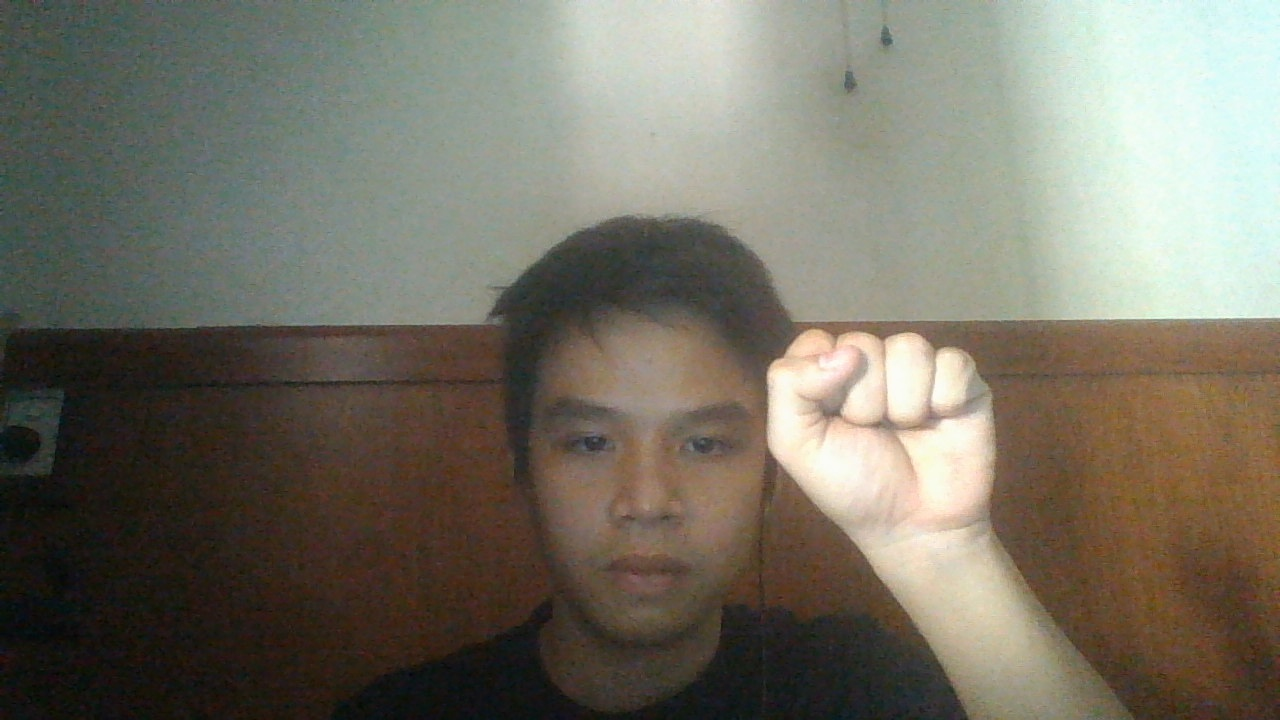stop: (760, 326, 1008, 538)
